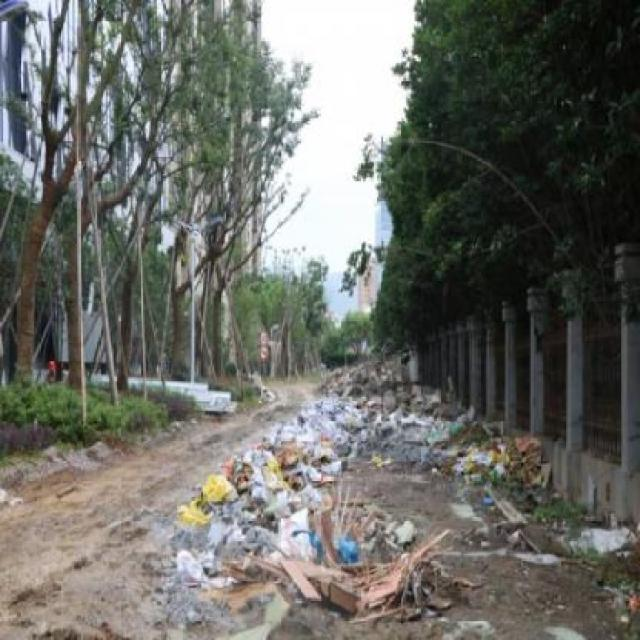garbage: (185, 472, 452, 634), (310, 373, 466, 472), (494, 499, 572, 580), (471, 431, 552, 497), (569, 517, 640, 562), (246, 428, 312, 469)
